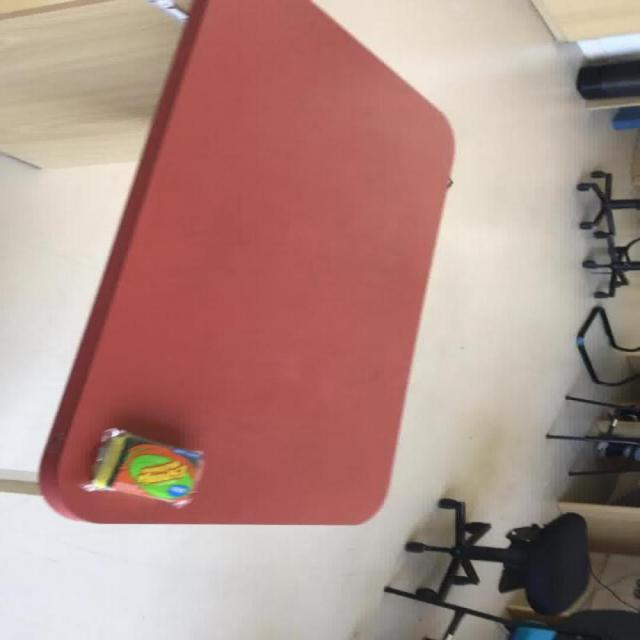Sponge: (78, 428, 204, 508)
